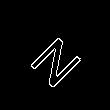N_NE: (23, 23, 87, 87)
